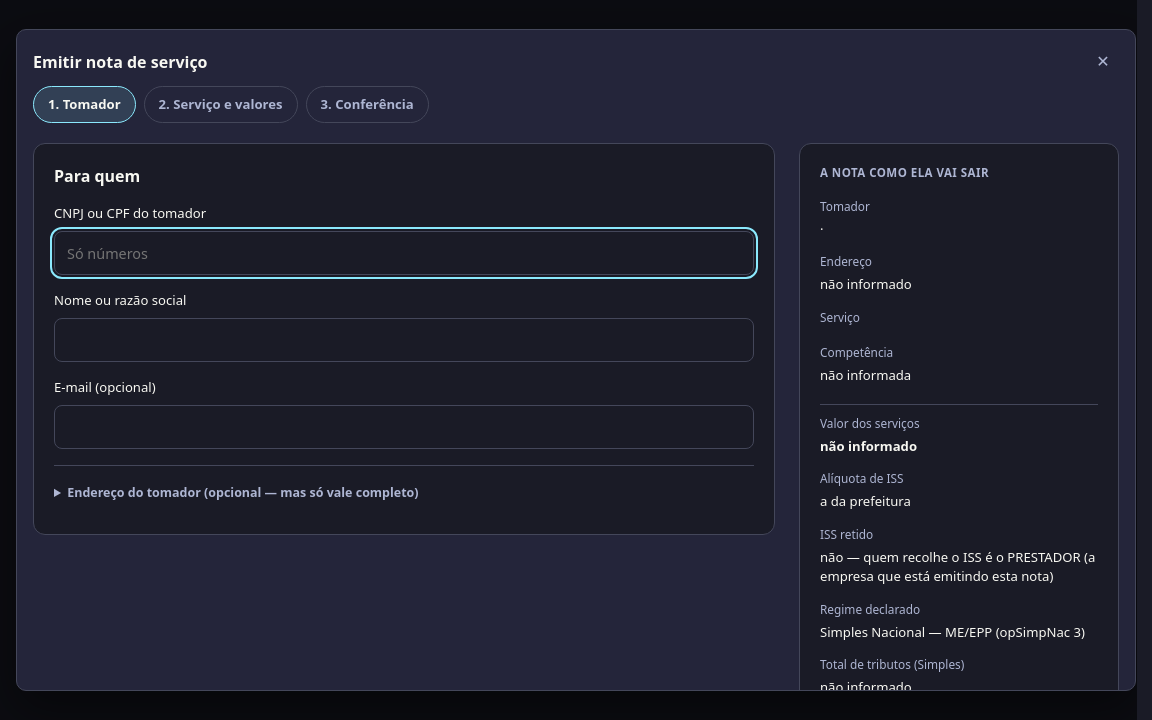
Test: 1) CNPJ encontrado — a consulta OFERECE, e diz de onde veio › preenche a razão social e marca a origem no rótulo
In the field labelled "CNPJ ou CPF do tomador": (404, 253) [54,231,754,275], type "12345678000199"
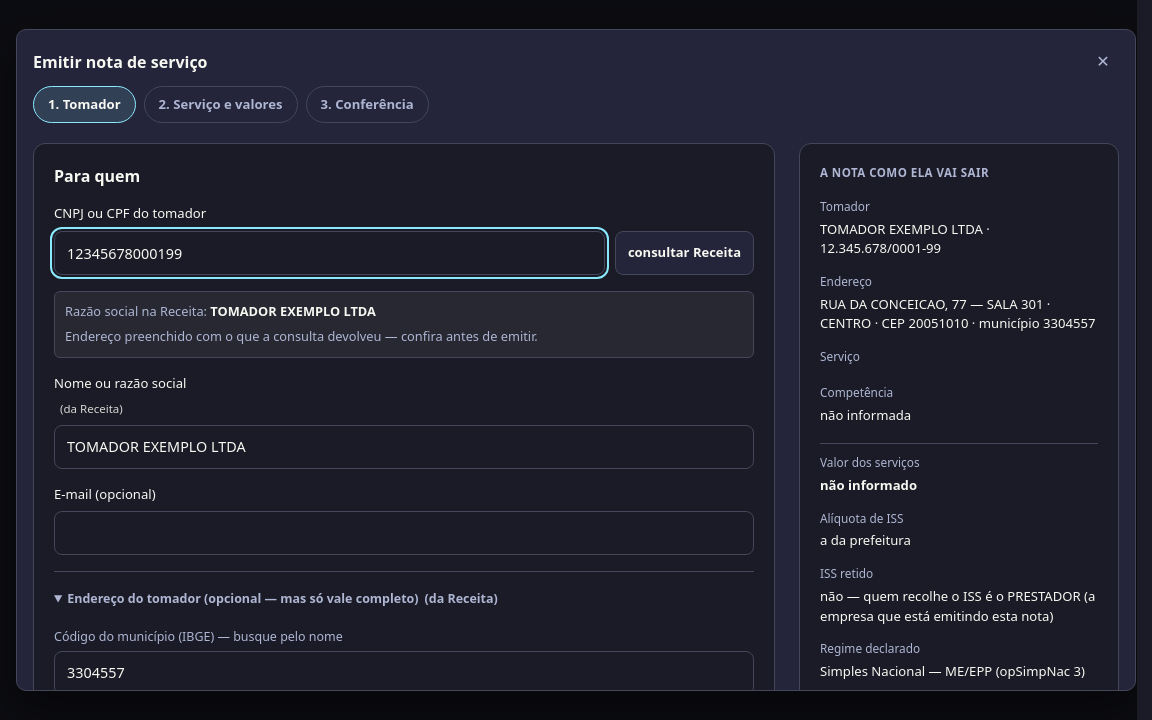
Expected: the field labelled "Nome ou razão social (da Receita)" holds "TOMADOR EXEMPLO LTDA", [54,424,754,468]
Expected: the text "TOMADOR EXEMPLO LTDA · 12.345.678/0001-99" is shown, [820,220,990,257]
Expected: the text "(da Receita)" is shown 2 times, [60,401,123,416]; [424,590,498,607]
